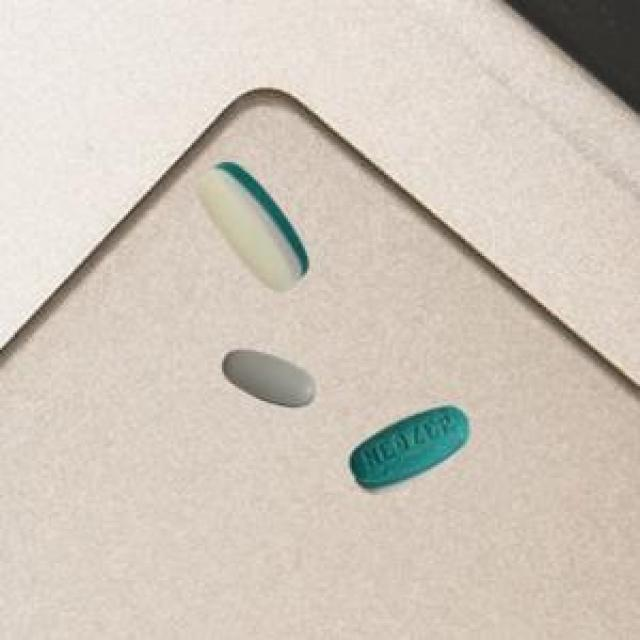Neozep: (176, 154, 322, 298), (341, 398, 476, 496), (213, 333, 321, 418)
